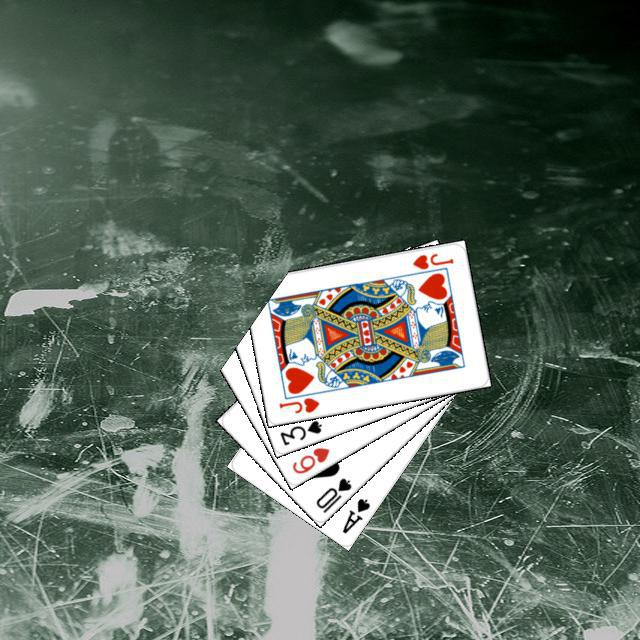10s: (311, 473, 353, 515)
3s: (275, 415, 324, 447)
6h: (287, 442, 331, 476)
As: (337, 493, 372, 535)
Jh: (408, 248, 455, 271), (274, 393, 321, 415)
